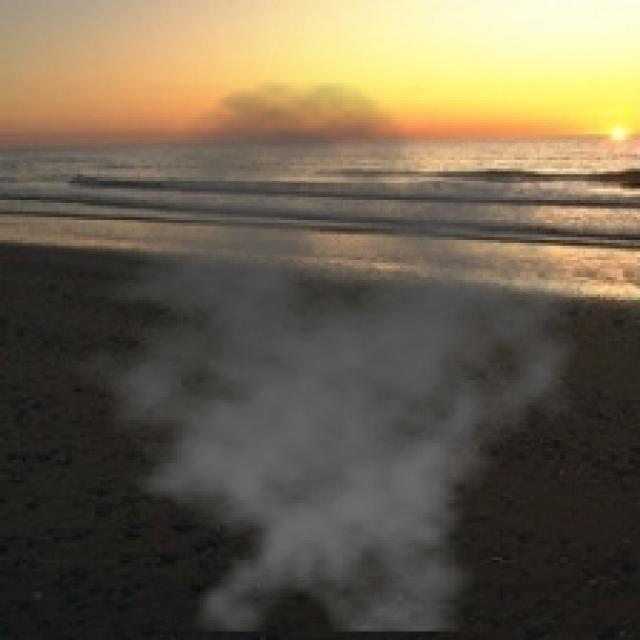Smoke: (45, 79, 600, 632)
